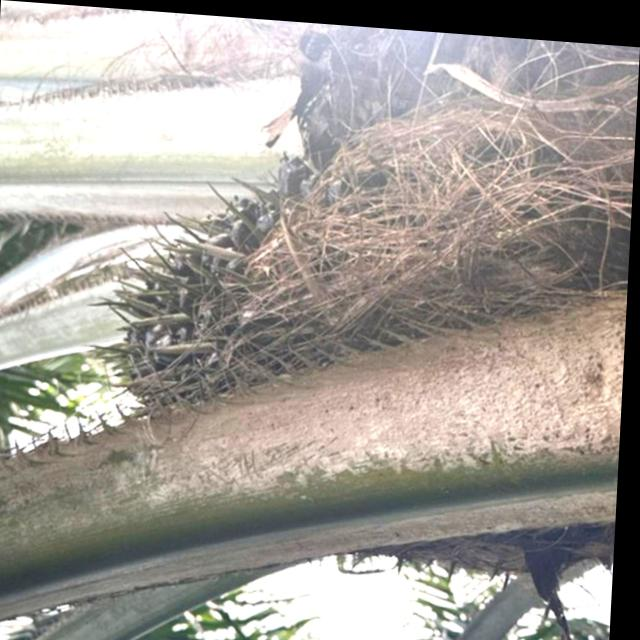almost: (65, 76, 584, 436)
